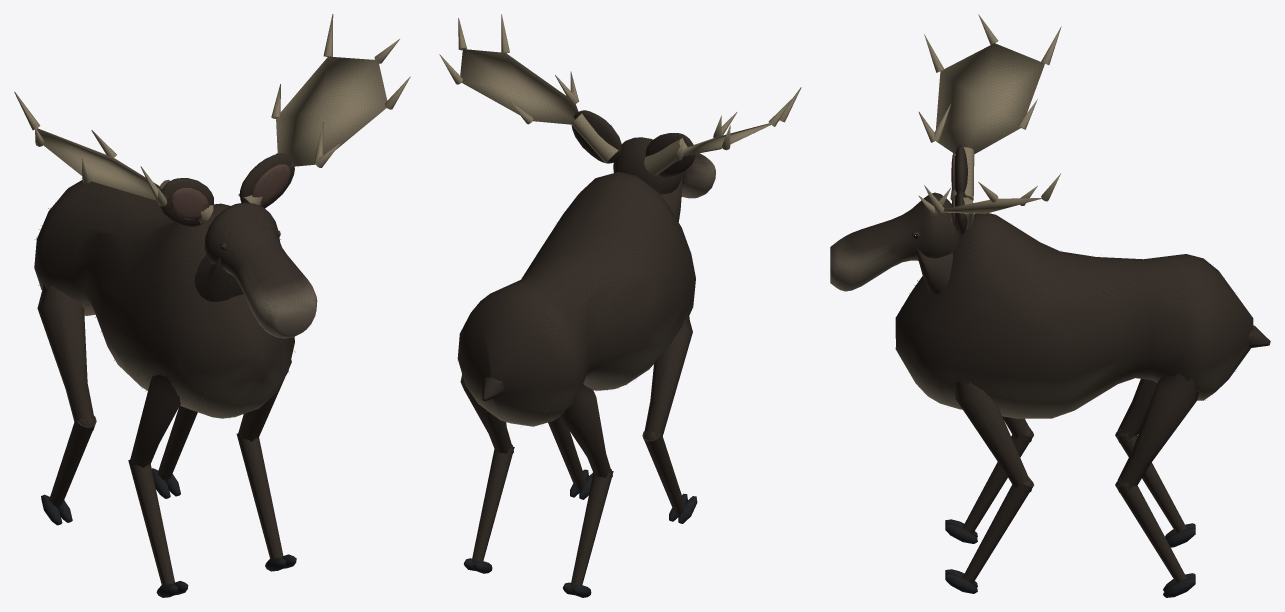
File: moose.glb
3 renders of one model, left to right at view 1: azimuth 30°, elevation 25°; view 2: azimuth 150°, elevation 25°; view 3: azimuth 270°, elevation 25°, orthographic. The views are drawn at different scales.
Visible parts, largest first — view 1: moose__torso.001, moose__head_and_neck.002, moose__upper_BL.001, moose__lower_FL.001, moose__lower_FR.001, moose__upper_FL.001, moose__lower_BL.001, moose__lower_BR.001, moose__upper_FR.001; view 2: moose__torso.001, moose__head_and_neck.002, moose__upper_FL.001, moose__upper_BL.001, moose__lower_BR.001, moose__lower_BL.001, moose__lower_FL.001, moose__lower_FR.001, moose__upper_BR.001; view 3: moose__torso.001, moose__head_and_neck.002, moose__upper_BR.001, moose__upper_FR.001, moose__lower_FR.001, moose__lower_BR.001, moose__lower_FL.001, moose__lower_BL.001, moose__upper_BL.001.
Part boxes in pixels (x1=…): moose__torso.001: x1=34, y1=180, x2=294, y2=418; moose__head_and_neck.002: x1=14, y1=14, x2=410, y2=338; moose__upper_BL.001: x1=37, y1=284, x2=94, y2=432; moose__lower_FL.001: x1=128, y1=459, x2=188, y2=597; moose__lower_FR.001: x1=236, y1=433, x2=296, y2=571; moose__upper_FL.001: x1=129, y1=374, x2=180, y2=469; moose__lower_BL.001: x1=41, y1=416, x2=96, y2=525; moose__lower_BR.001: x1=152, y1=406, x2=197, y2=498; moose__upper_FR.001: x1=238, y1=360, x2=291, y2=441; moose__torso.001: x1=457, y1=172, x2=695, y2=426; moose__head_and_neck.002: x1=439, y1=14, x2=801, y2=221; moose__upper_FL.001: x1=643, y1=313, x2=692, y2=446; moose__upper_BL.001: x1=560, y1=384, x2=612, y2=478; moose__lower_BR.001: x1=464, y1=446, x2=514, y2=573; moose__lower_BL.001: x1=563, y1=470, x2=613, y2=597; moose__lower_FL.001: x1=642, y1=431, x2=697, y2=523; moose__lower_FR.001: x1=548, y1=416, x2=593, y2=499; moose__upper_BR.001: x1=460, y1=374, x2=513, y2=453; moose__torso.001: x1=895, y1=213, x2=1253, y2=418; moose__head_and_neck.002: x1=830, y1=14, x2=1061, y2=294; moose__upper_BR.001: x1=1116, y1=373, x2=1198, y2=492; moose__upper_FR.001: x1=953, y1=378, x2=1033, y2=491; moose__lower_FR.001: x1=945, y1=483, x2=1033, y2=593; moose__lower_BR.001: x1=1115, y1=482, x2=1195, y2=597; moose__lower_FL.001: x1=945, y1=433, x2=1033, y2=543; moose__lower_BL.001: x1=1115, y1=432, x2=1195, y2=547; moose__upper_BL.001: x1=1116, y1=379, x2=1157, y2=442.
Size of the model in its own units: 2.2 by 2.89 by 2.44.
2 materials, 1 textured.
